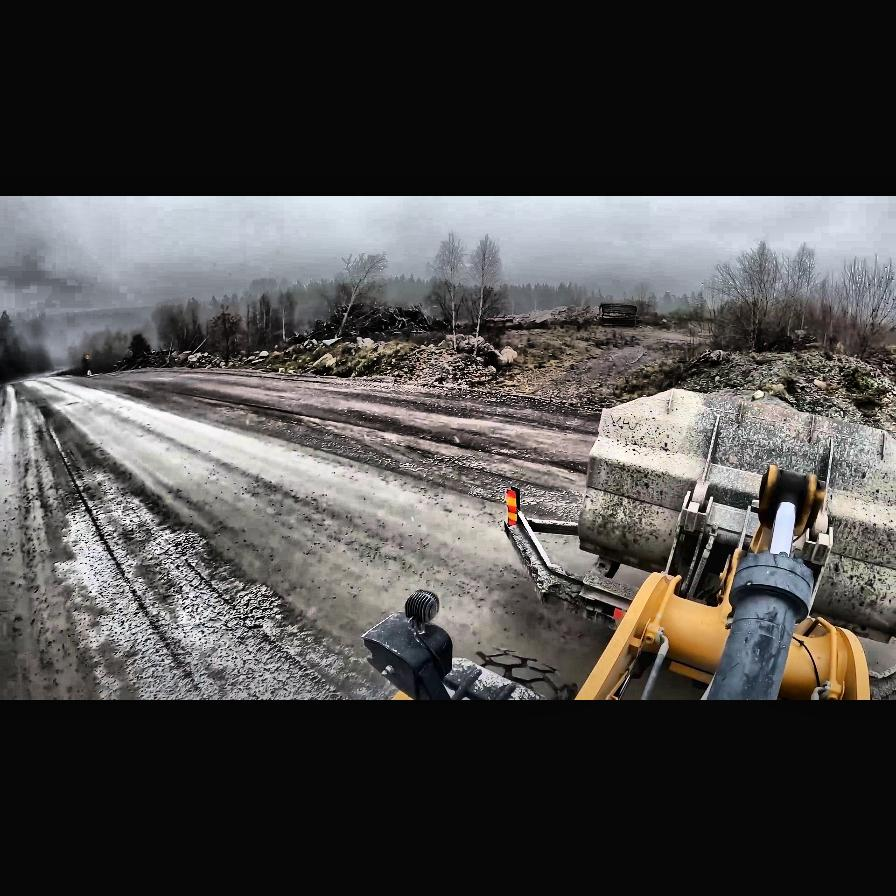anchor: (756, 465, 824, 543)
